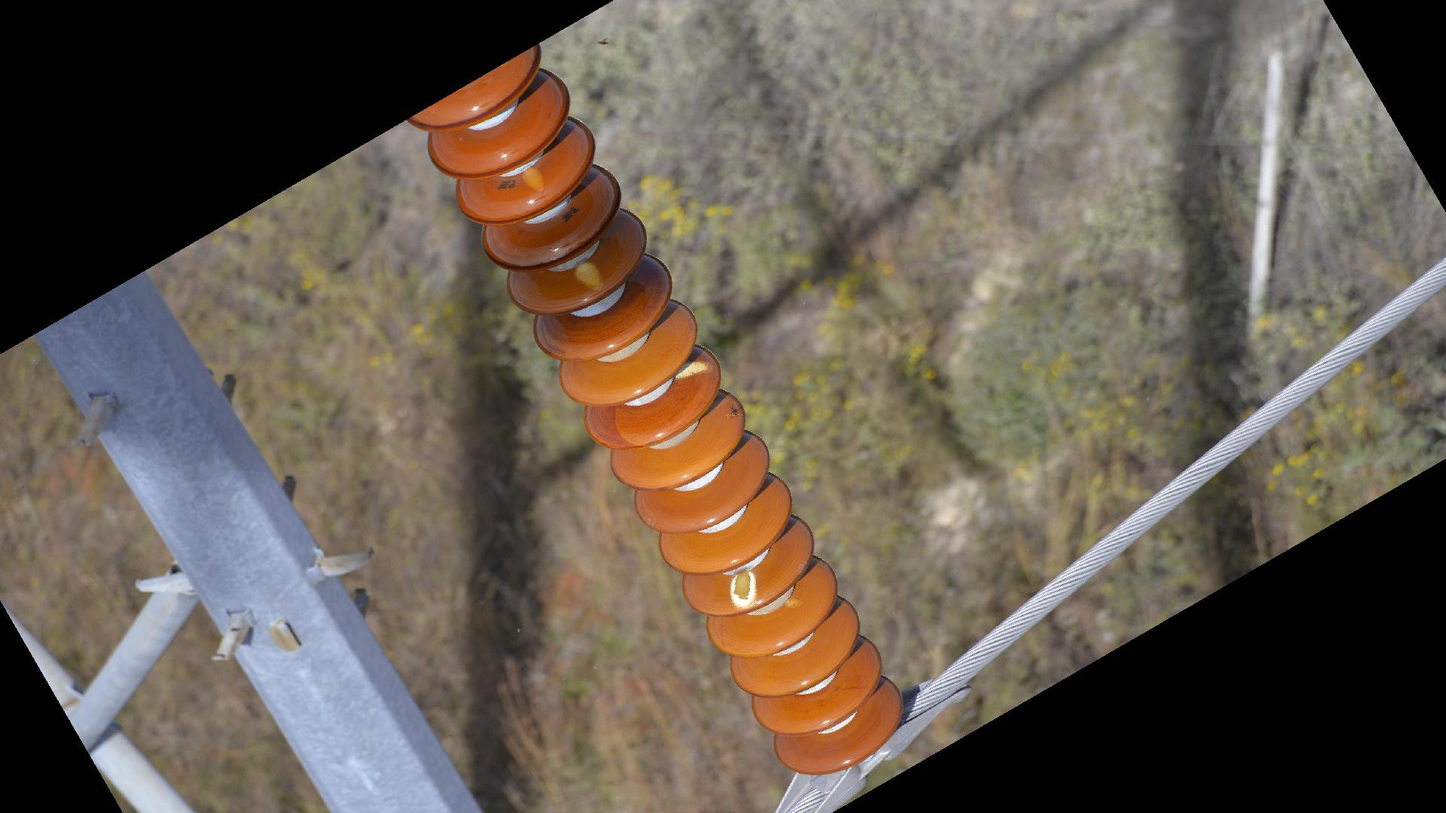insulator: (398, 40, 909, 781)
insulator_flashover: (725, 566, 758, 611), (569, 258, 606, 296), (672, 355, 716, 383), (519, 164, 548, 196)
